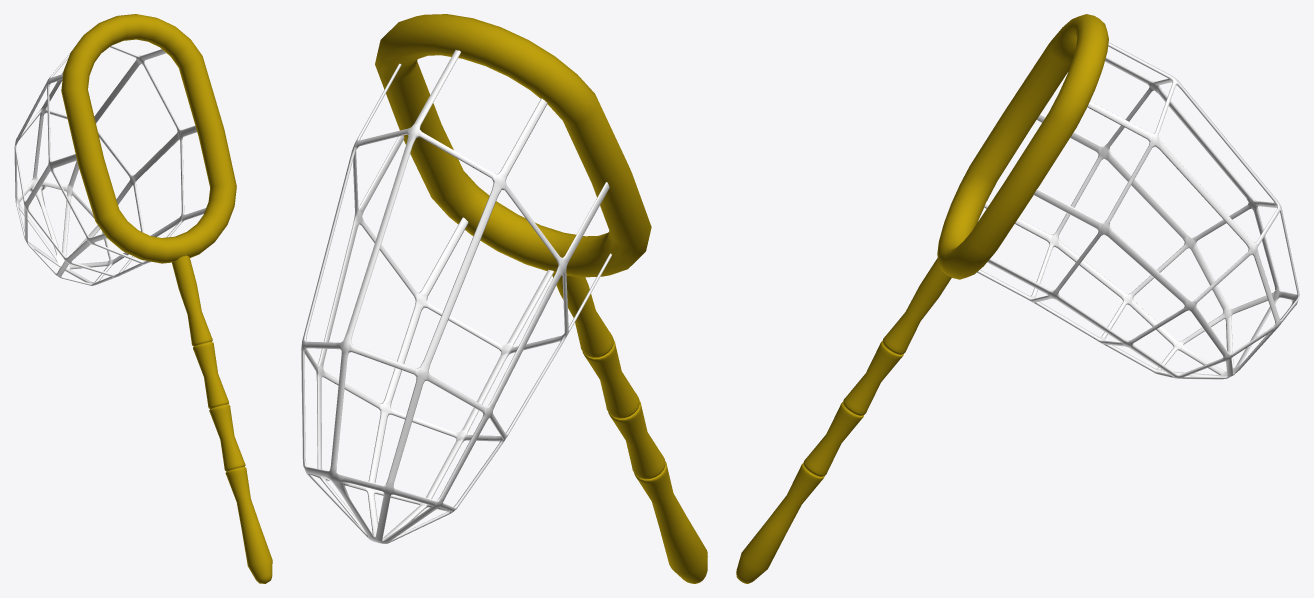
Rendered from CatchWeb.fbx.
3 views of the same model, side by side, from view 1: azimuth 30°, elevation 25°; view 2: azimuth 150°, elevation 25°; view 3: azimuth 270°, elevation 25° (orthographic). The views are drawn at different scales.
Visible parts, largest first — view 1: CatchWeb; view 2: CatchWeb; view 3: CatchWeb.
Boxes of the visible parts, x1,y1,x2,y2 form: CatchWeb: (14, 14, 272, 583); CatchWeb: (301, 14, 707, 583); CatchWeb: (736, 14, 1299, 583).
Size of the model in its own units: 47.14 by 145 by 133.
